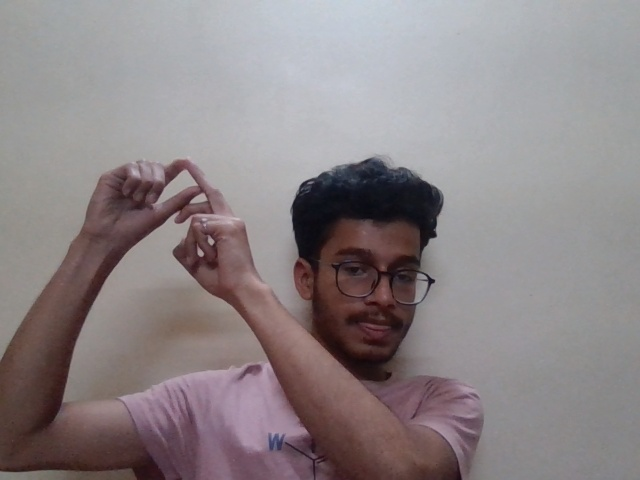R: (70, 154, 269, 308)
